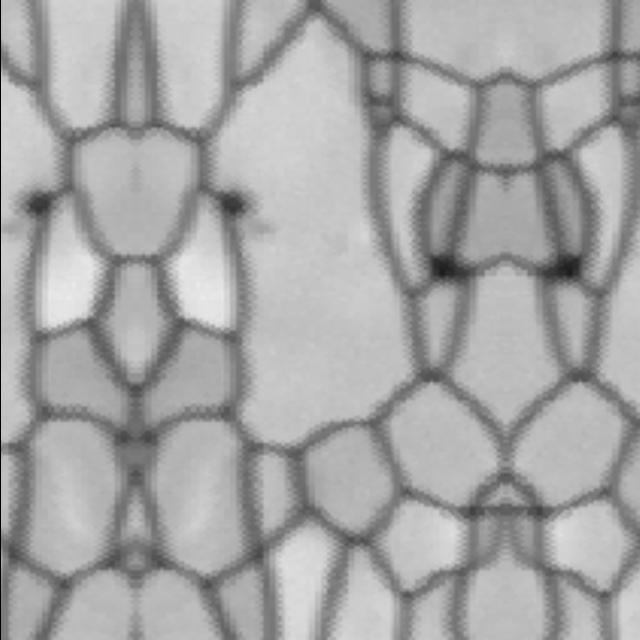good_void: (212, 181, 282, 247), (0, 181, 60, 247), (426, 245, 478, 292), (534, 245, 586, 292), (366, 89, 399, 110), (613, 89, 640, 110)
